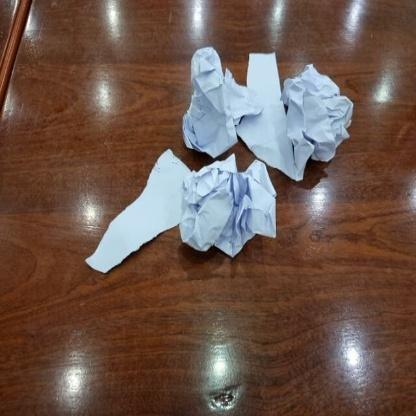trash: (83, 150, 183, 274), (186, 152, 275, 257), (180, 43, 258, 154), (282, 65, 352, 179), (238, 53, 292, 177)
